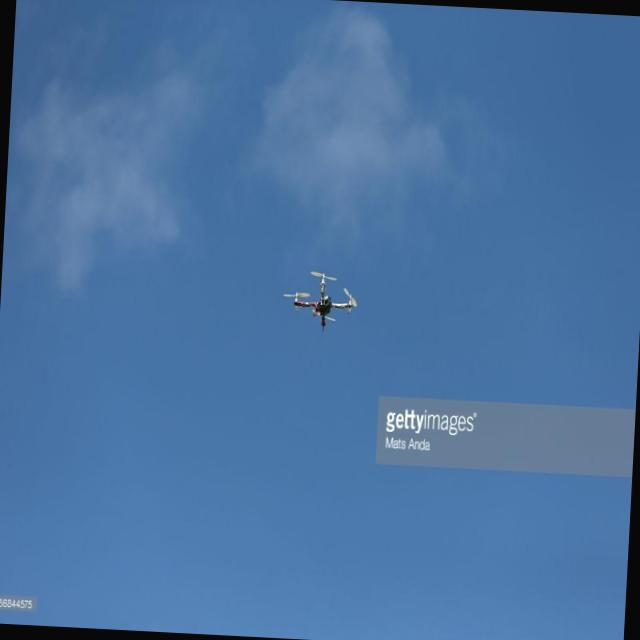drone: (281, 266, 361, 336)
